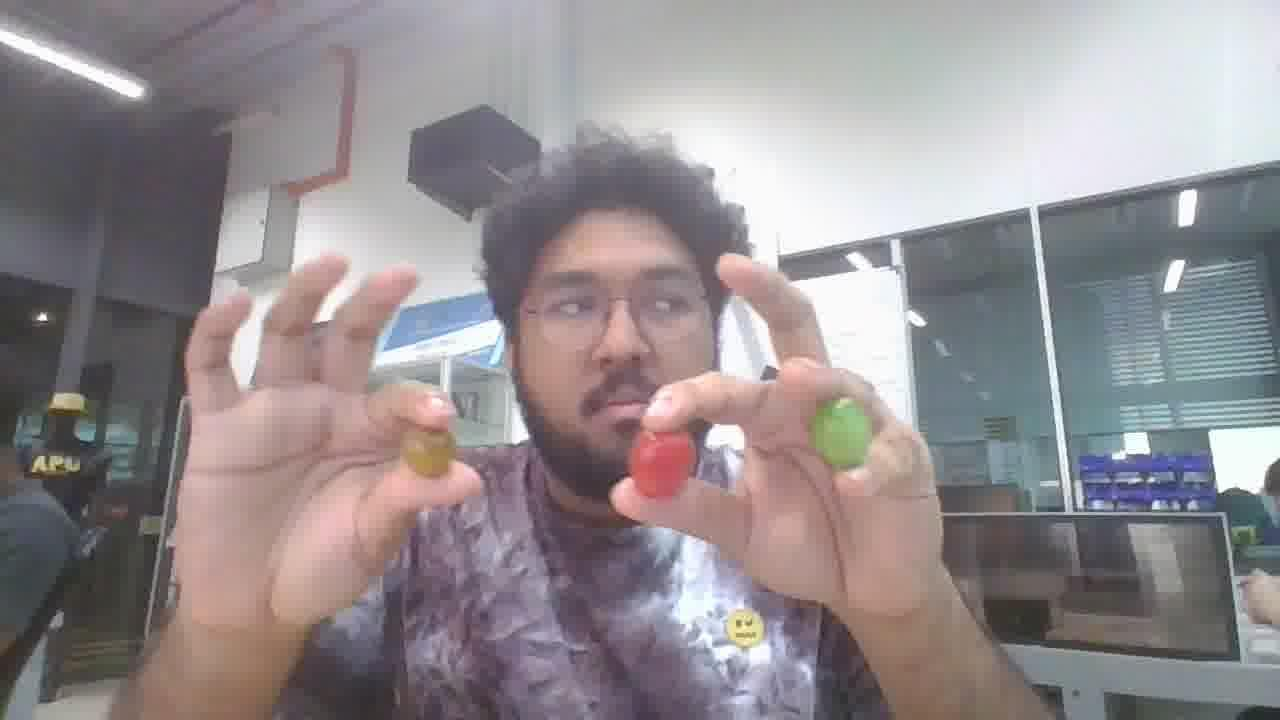green_cherry_tomato: (810, 397, 871, 469)
red_cherry_tomato: (630, 431, 695, 497)
yellow_cherry_tomato: (402, 430, 456, 477)
